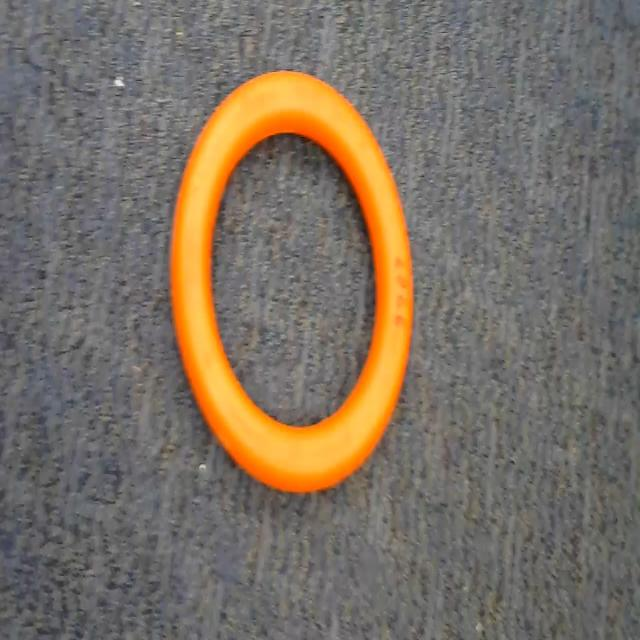note: (166, 58, 420, 496)
